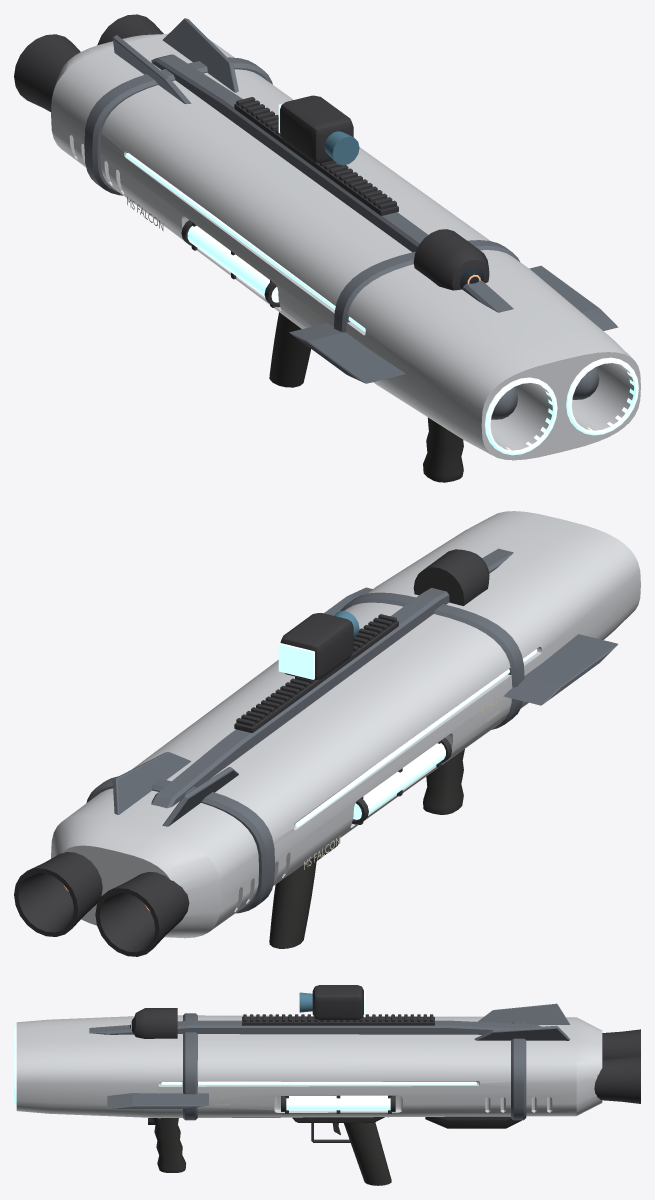
Rendered from falcon.glb.
3 views of the same model, one above another, from view 1: azimuth 30°, elevation 25°; view 2: azimuth 150°, elevation 25°; view 3: azimuth 270°, elevation 25° (orthographic). The views are drawn at different scales.
Parts seen in each view (by area): view 1: Body; view 2: Body; view 3: Body.
Part boxes in pixels (left/top/right/bottom): Body: left=14, top=14, right=640, bottom=482; Body: left=14, top=511, right=640, bottom=956; Body: left=14, top=985, right=640, bottom=1185.
Bounding box in the file's own units: 0.3 × 0.329 × 0.974.
